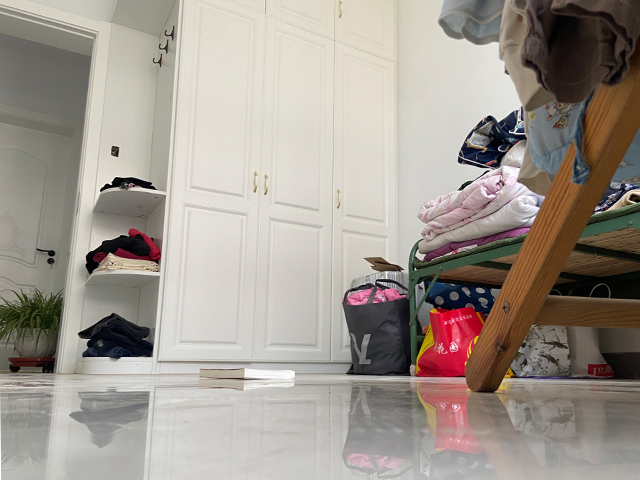bed: (408, 203, 640, 379)
book: (197, 367, 296, 380)
cabinet: (74, 35, 401, 376)
